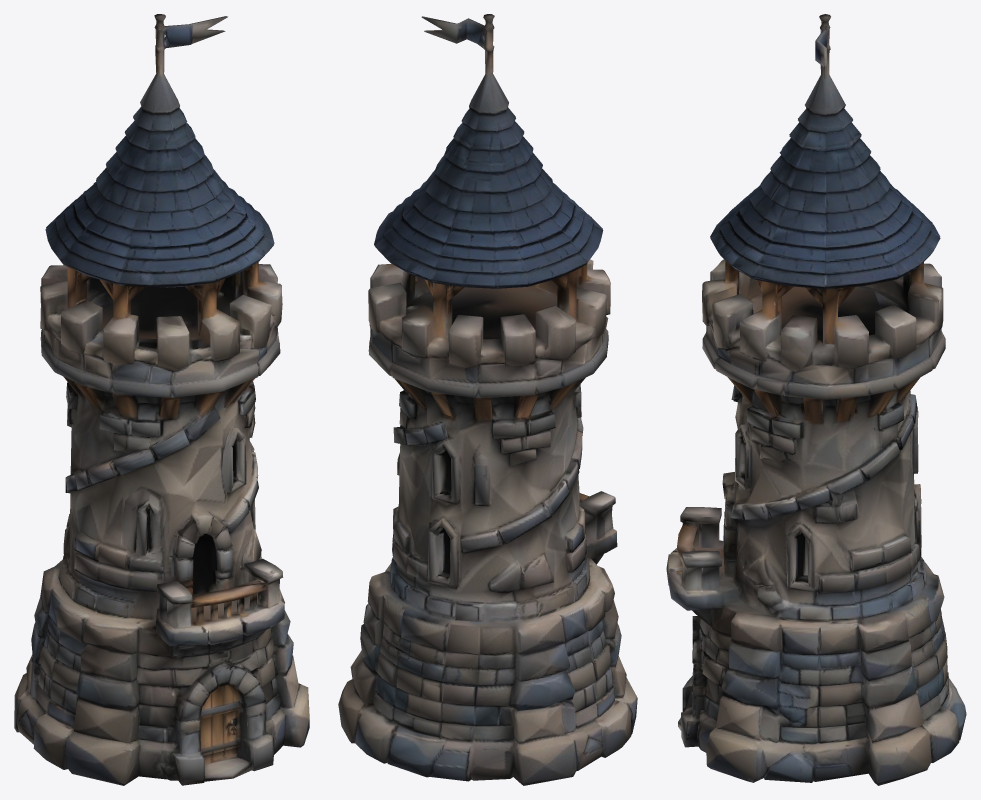
The model's file is tripo_convert_fc5def4d-e6d7-45c8-a280-412eb93bdde6.fbx.
3 views of the same model, side by side, from view 1: azimuth 30°, elevation 25°; view 2: azimuth 150°, elevation 25°; view 3: azimuth 270°, elevation 25° (orthographic).
Parts seen in each view (by area): view 1: tripo_node_fc5def4d; view 2: tripo_node_fc5def4d; view 3: tripo_node_fc5def4d.
Boxes of the visible parts, box(x1,y1,x2,y2) form: tripo_node_fc5def4d: box(14, 14, 309, 785); tripo_node_fc5def4d: box(338, 14, 637, 785); tripo_node_fc5def4d: box(666, 14, 966, 785).
Bounding box in the file's own units: 0.3641 × 0.9996 × 0.382.
